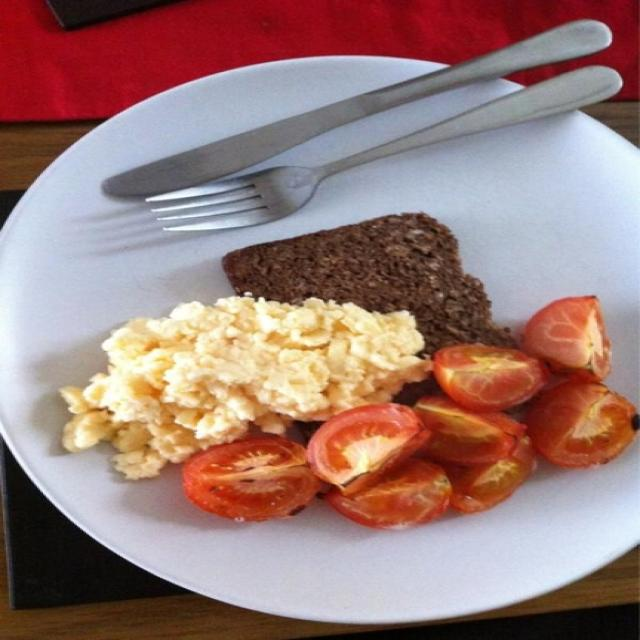鸡蛋料理: (9, 55, 618, 610)
